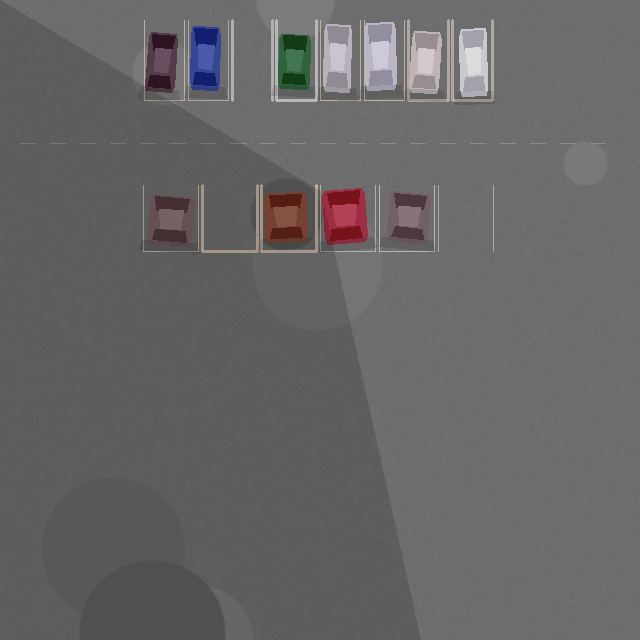space-empty: (202, 185, 257, 251), (438, 185, 493, 251), (232, 20, 272, 100)
space-occupied: (143, 185, 198, 251), (261, 185, 316, 251), (320, 185, 375, 251), (379, 185, 434, 251), (144, 20, 184, 100), (188, 20, 228, 100), (276, 20, 316, 100), (320, 20, 360, 100), (364, 20, 404, 100), (408, 20, 448, 100), (452, 20, 492, 100)
